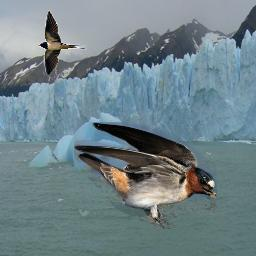Swallow: (74, 122, 217, 229), (38, 10, 87, 77)
